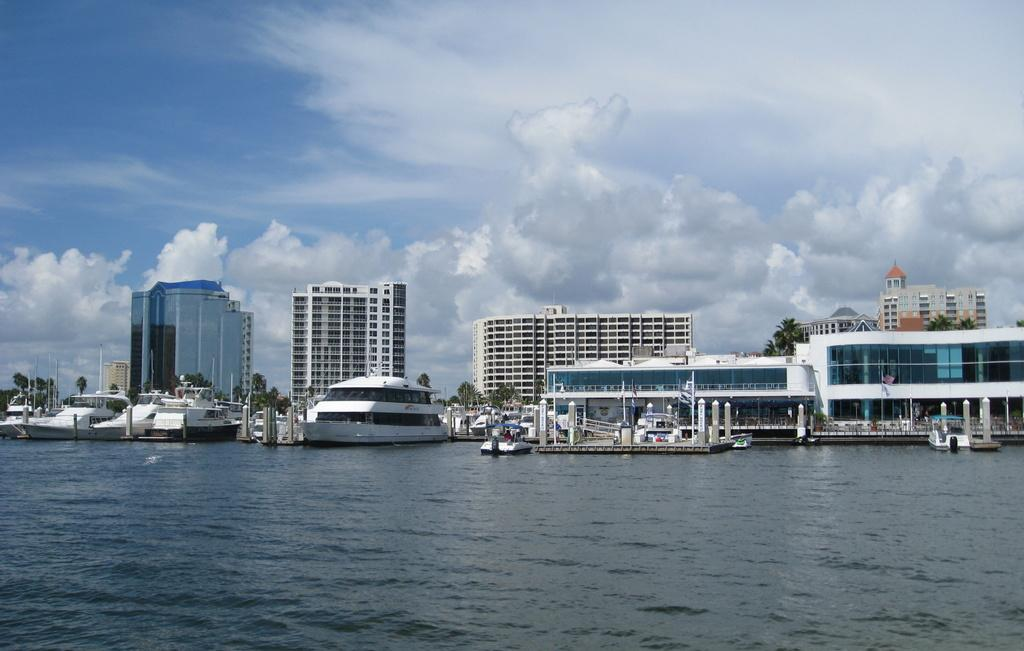PassengerShip: (289, 362, 461, 447), (18, 382, 132, 446), (144, 382, 248, 444), (90, 386, 192, 444)
